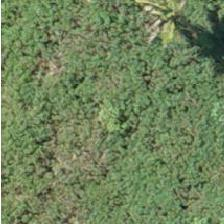coconut_tree: (121, 0, 211, 59)
